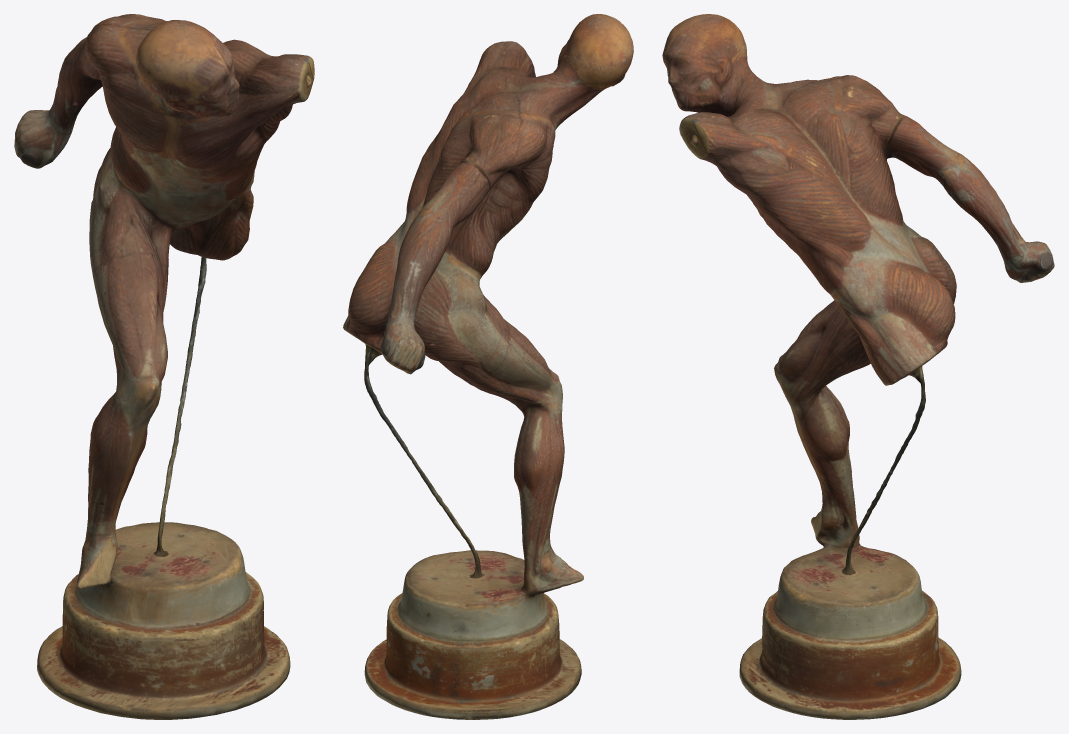
Rendered from ecorche.obj.
The picture shows the model from 3 angles, left to right: view 1: azimuth 30°, elevation 25°; view 2: azimuth 150°, elevation 25°; view 3: azimuth 270°, elevation 25°; orthographic projection. The views are drawn at different scales.
Parts seen in each view (by area): view 1: ecorche_low_Nellis_aftermeshmixer_2.001; view 2: ecorche_low_Nellis_aftermeshmixer_2.001; view 3: ecorche_low_Nellis_aftermeshmixer_2.001.
Boxes of the visible parts, <box> form: ecorche_low_Nellis_aftermeshmixer_2.001: <box>14,14,314,719</box>; ecorche_low_Nellis_aftermeshmixer_2.001: <box>343,14,633,719</box>; ecorche_low_Nellis_aftermeshmixer_2.001: <box>662,14,1054,719</box>.
Bounding box in the file's own units: 0.0936 × 0.2885 × 0.1629.
Materials: 1 (1 with a texture image).
